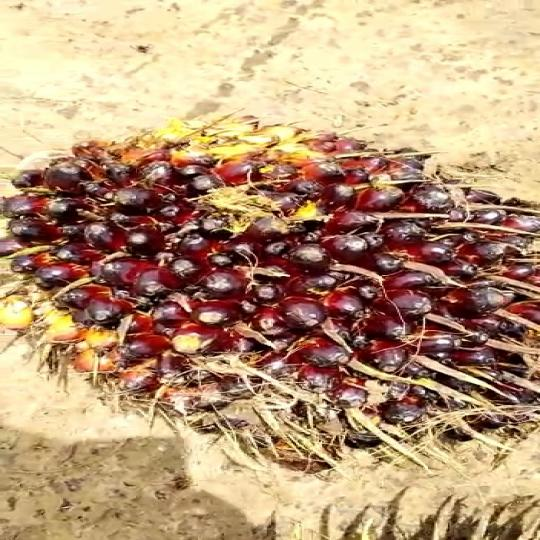mentah: (10, 109, 540, 475)
